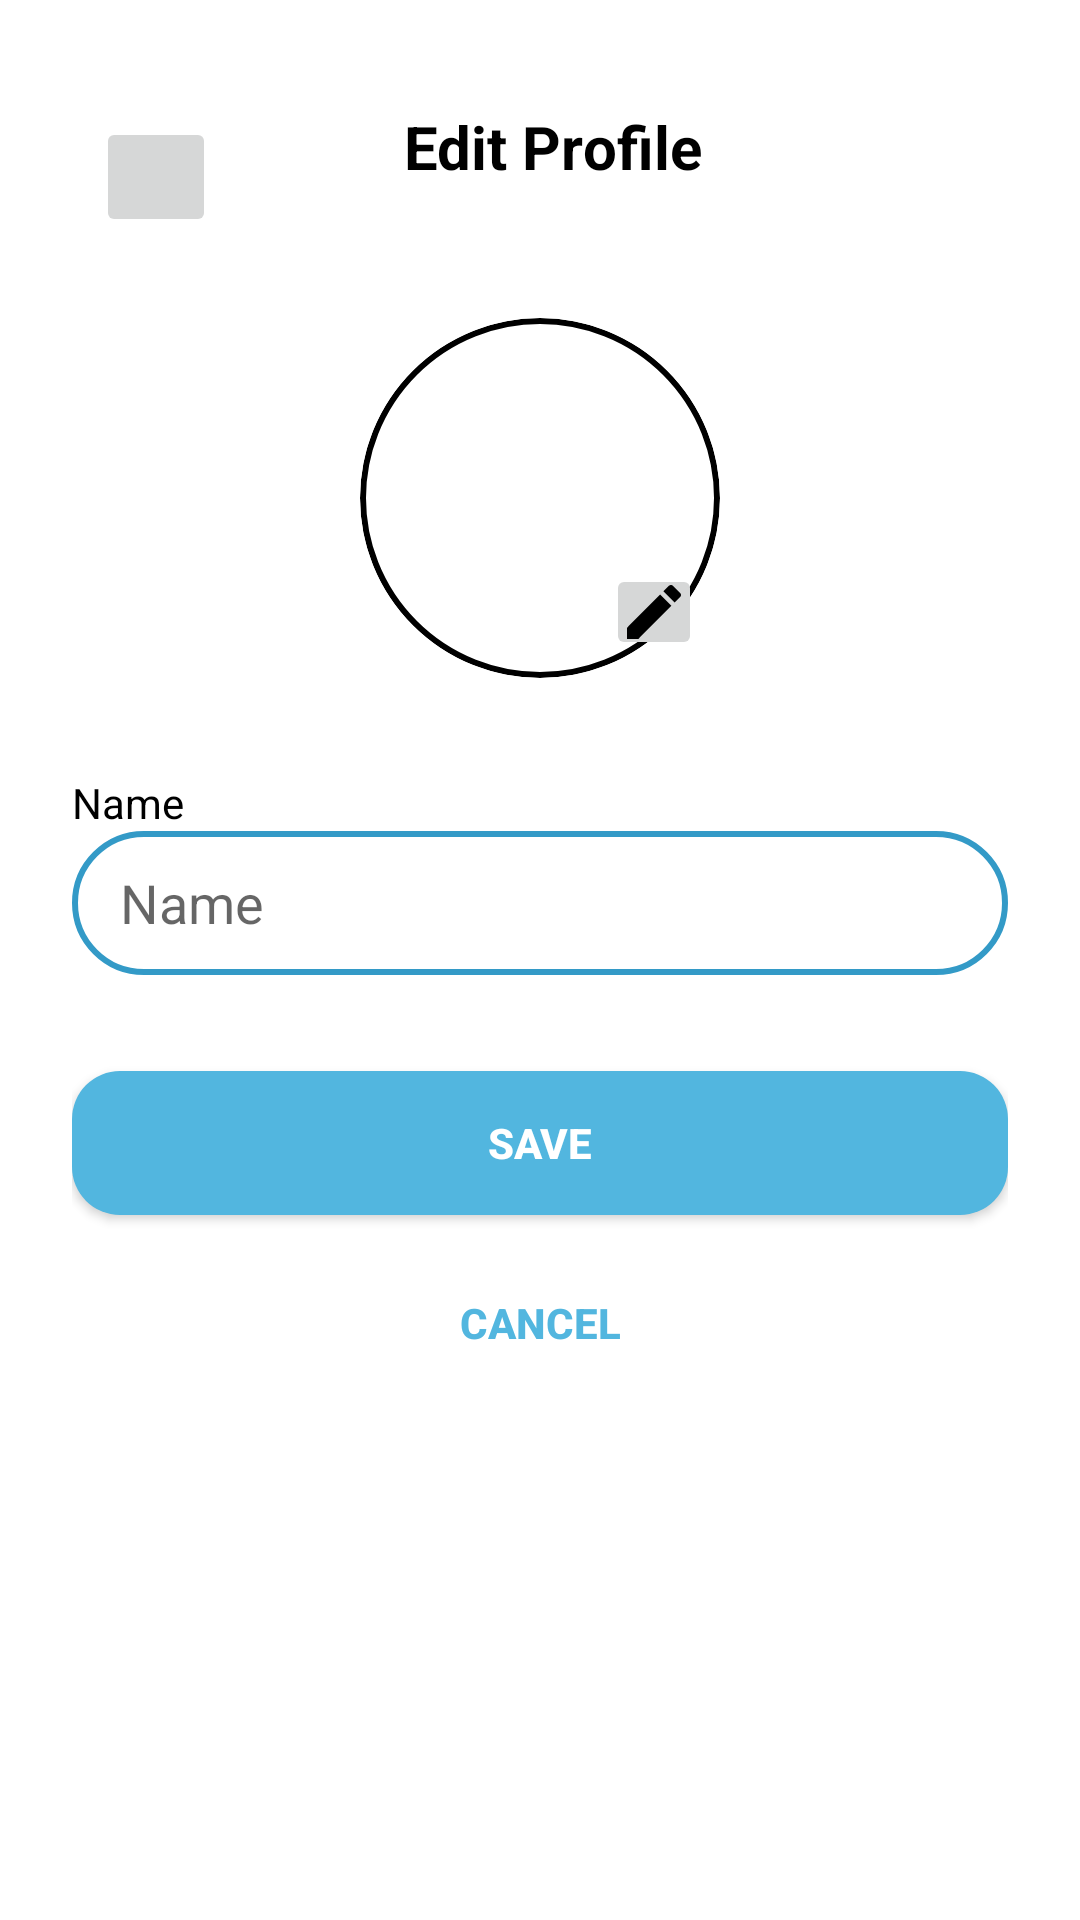

Where icons sit on this 1080px x 1920px app screen, as BBox(x1, y1, x2, y2):
Edit: BBox(606, 564, 702, 660)
